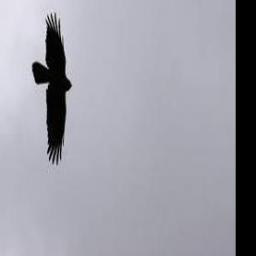Crow: (31, 12, 71, 167)
